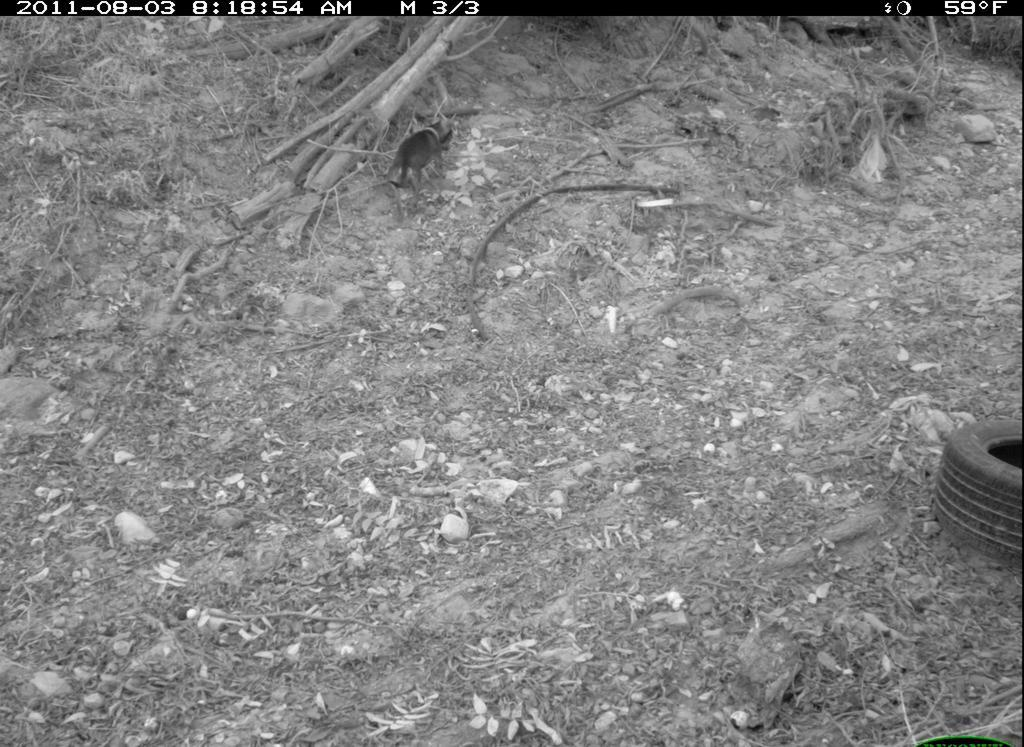dog: (388, 113, 456, 194)
